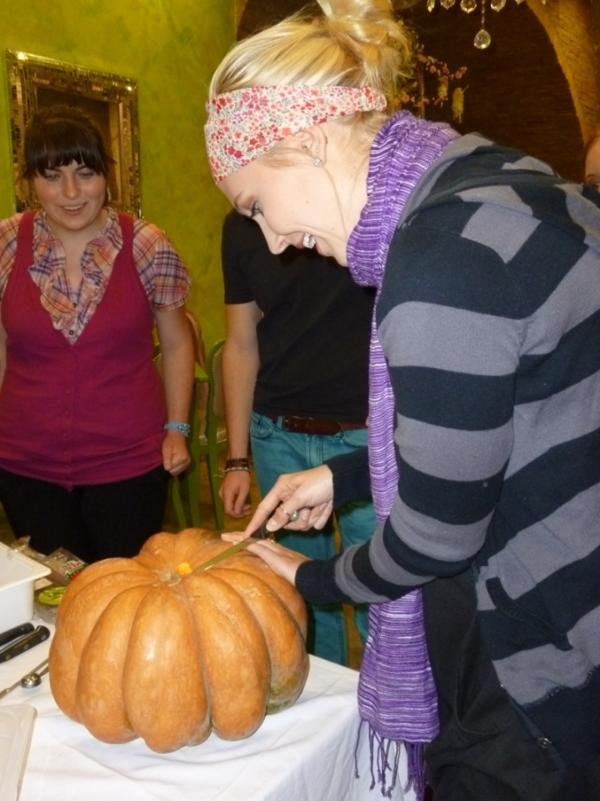person: (206, 9, 600, 800)
